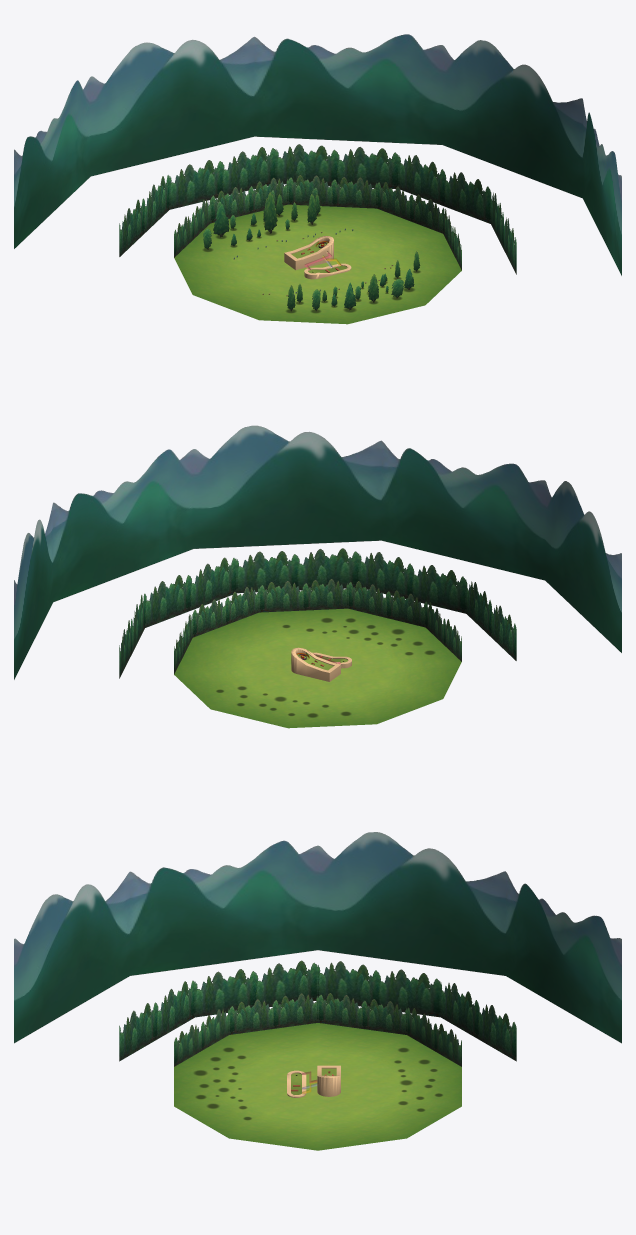
Rendered from hole17.glb.
The picture shows the model from 3 angles, top to bottom: view 1: azimuth 30°, elevation 25°; view 2: azimuth 150°, elevation 25°; view 3: azimuth 270°, elevation 25°; orthographic projection. The views are drawn at different scales.
Parts seen in each view (by area): view 1: background1, grass_base, background3, background2, edges1; view 2: background1, grass_base, background3, background2, edges1; view 3: background1, grass_base, background3, background2, edges1.
Part boxes in pixels (x1,y1,x2,y2): background1: (14,34,621,275); grass_base: (174,204,461,324); background3: (119,144,516,274); background2: (174,175,461,270); edges1: (284,236,333,270); background1: (14,425,621,679); grass_base: (174,608,461,728); background3: (119,548,516,678); background2: (174,579,461,674); edges1: (291,647,340,681); background1: (14,832,621,1043); grass_base: (174,1023,461,1150); background3: (119,960,516,1061); background2: (174,993,461,1066); edges1: (317,1065,340,1096).
Size of what is drawn, in the model's own units: 347 by 78.81 by 330.
16 materials, 12 textured.
